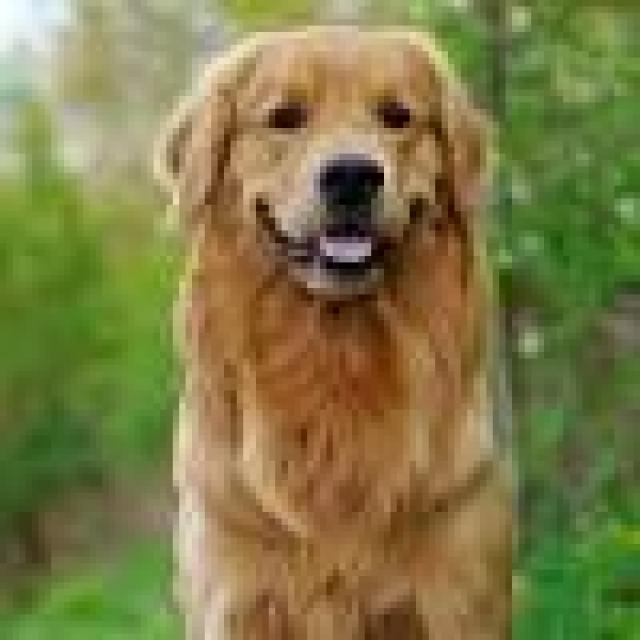Dog: (160, 26, 517, 640)
